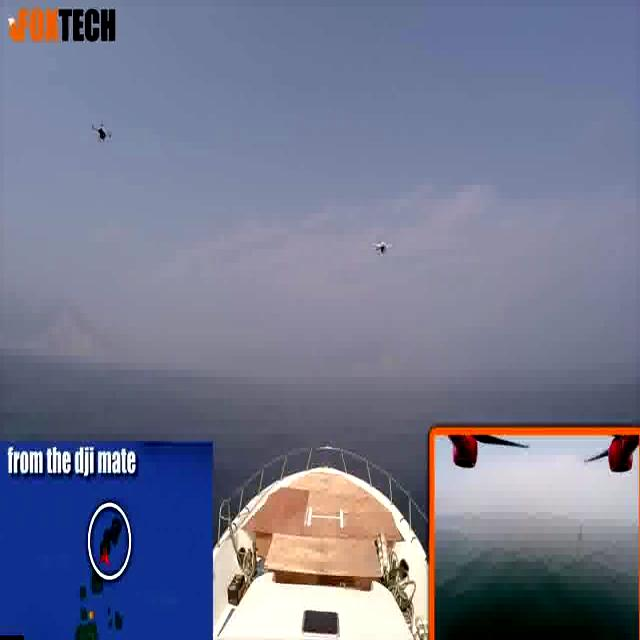drone: (92, 121, 116, 149), (370, 237, 392, 263)
